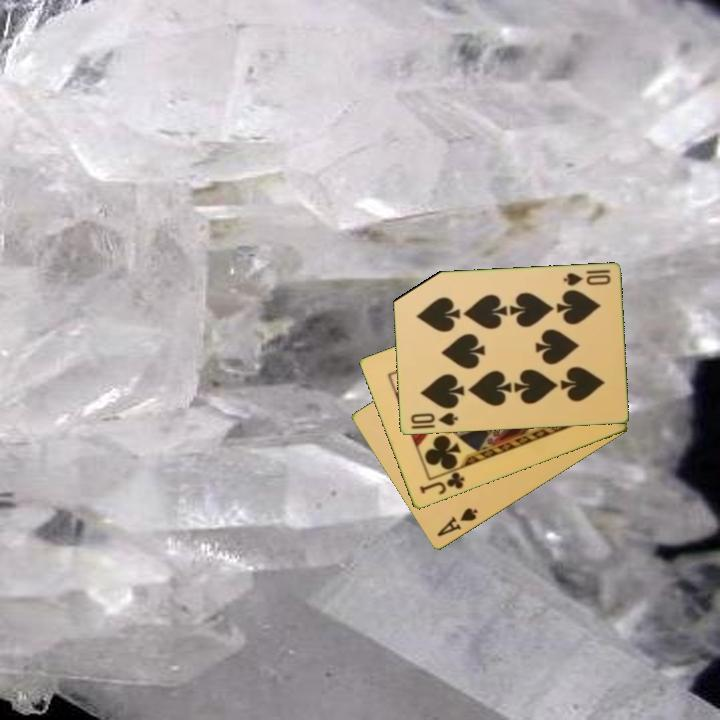10s: (559, 267, 613, 289), (407, 410, 460, 429)
As: (433, 504, 481, 540)
Jc: (416, 469, 468, 498)
